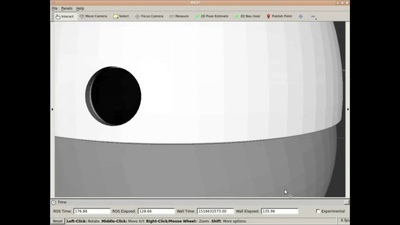mira_robot: (54, 22, 344, 198)
